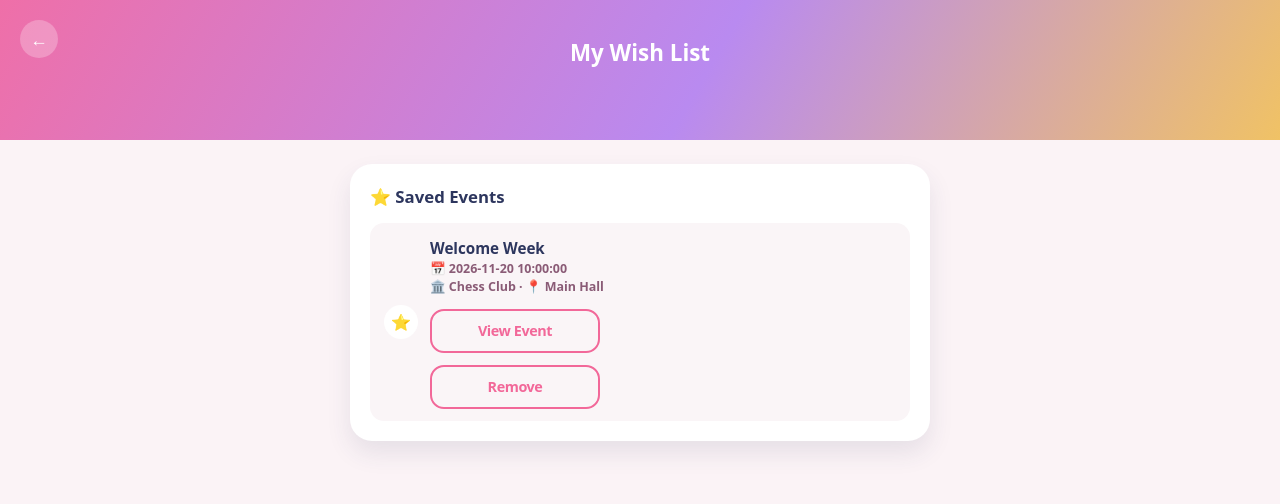
SavedEventsPage (wish list) › keeps the event and shows the error when removing fails
This screenshot has width=1280, height=504.
Click the button "Remove".
click(515, 387)  # box [430,365,600,409]
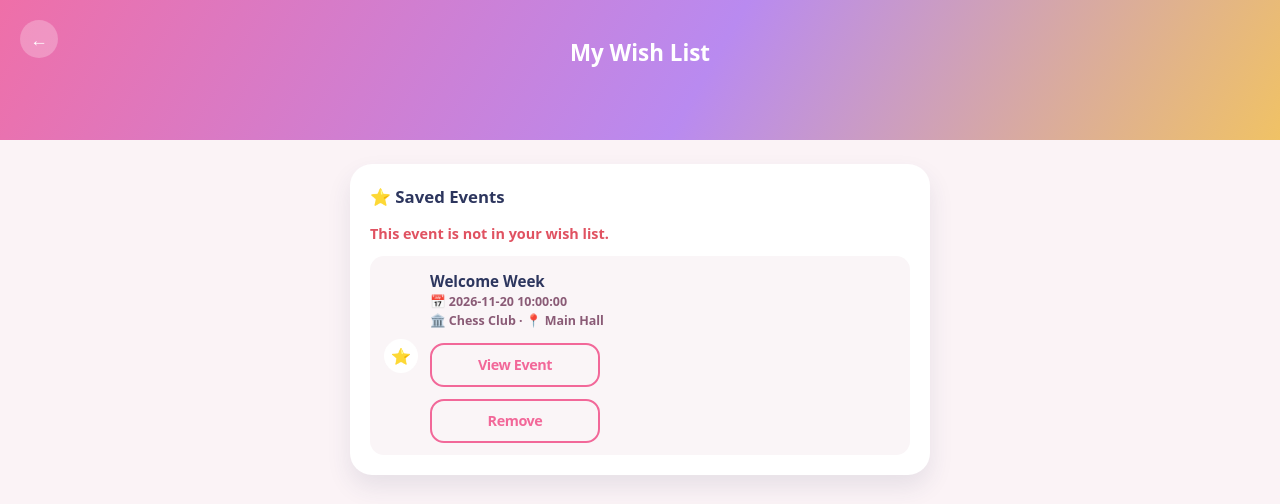
expect the text "Welcome Week" is shown: met, box [430,271,545,291]
expect the text "This event is not in your wish list." is shown: met, box [370,224,609,243]
